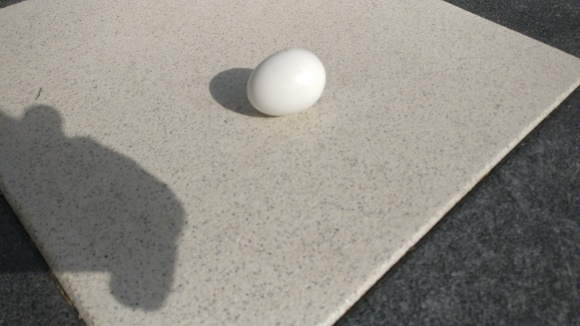egg: (245, 47, 327, 117)
